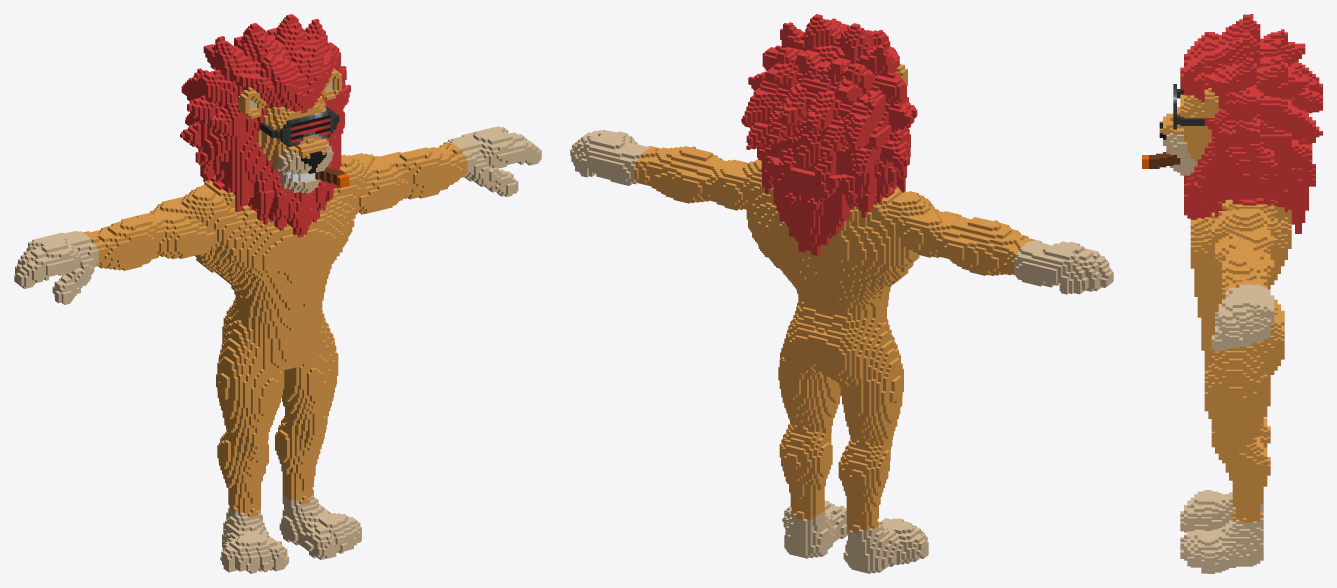
Rendered from 456-BPXLcH72.glb.
The picture shows the model from 3 angles, left to right: view 1: azimuth 30°, elevation 25°; view 2: azimuth 150°, elevation 25°; view 3: azimuth 270°, elevation 25°; orthographic projection. The views are drawn at different scales.
Visible parts, largest first — view 1: cigar; view 2: cigar; view 3: cigar.
Boxes of the visible parts, box(x1,y1,x2,y2) form: cigar: box(14, 14, 541, 573); cigar: box(570, 14, 1113, 573); cigar: box(1142, 14, 1322, 573).
Size of the model in its own units: 17.2 by 16.5 by 5.2.
4 materials, 4 textured.
